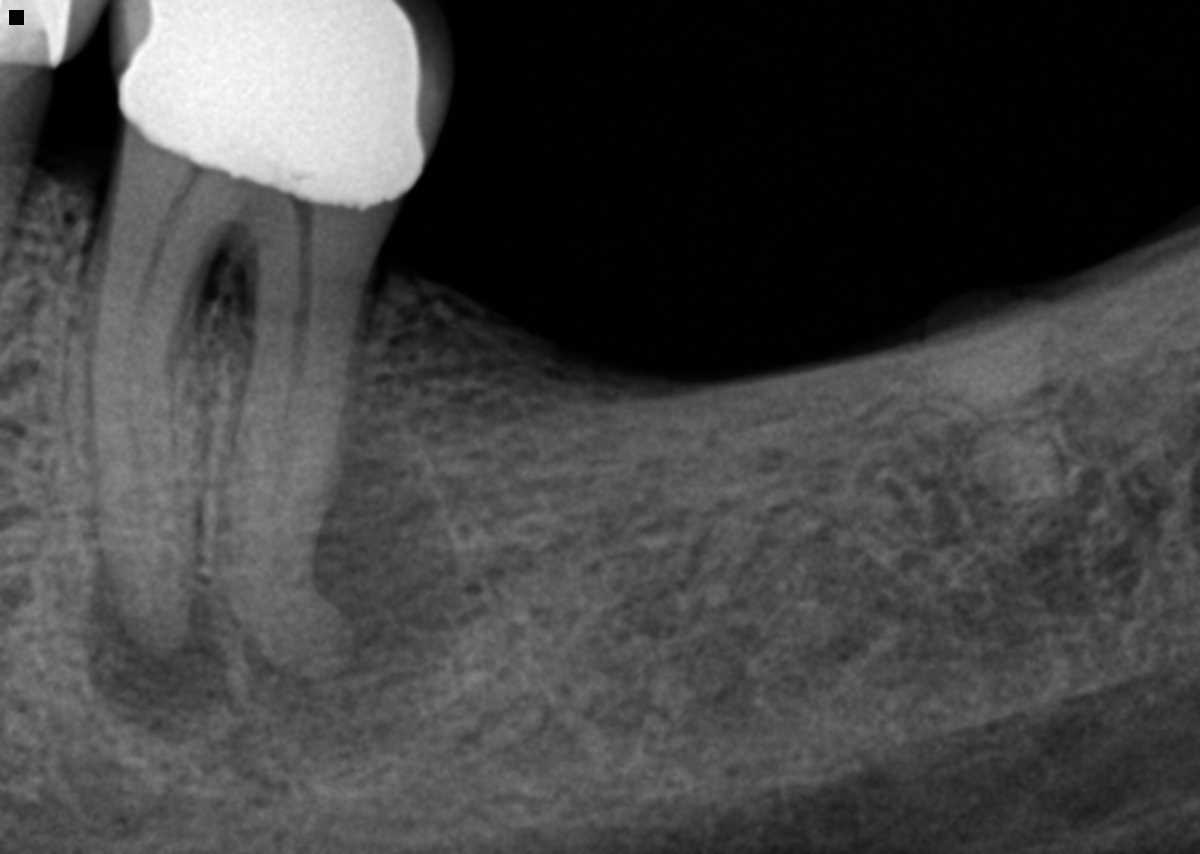Apical Lesion: (244, 456, 465, 777), (81, 583, 238, 747)
Distal Canal: (268, 250, 319, 614)
Distal Root: (218, 243, 378, 672)
Mesial Canal: (124, 216, 180, 608)
Mesial Root: (86, 204, 221, 654)
